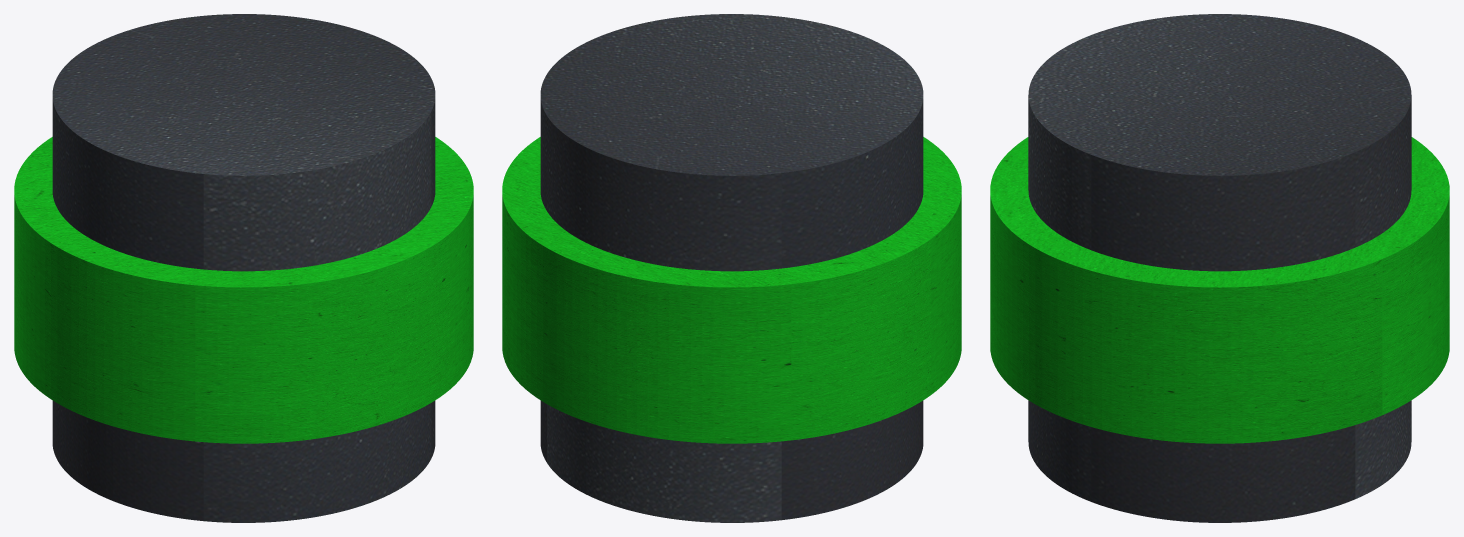
Rendered from CylBump.obj.
The picture shows the model from 3 angles, left to right: view 1: azimuth 30°, elevation 25°; view 2: azimuth 150°, elevation 25°; view 3: azimuth 270°, elevation 25°; orthographic projection.
Visible parts, largest first — view 1: CylinderBumper.005_Cylinder.003, GreenBumper.005_Cylinder.006; view 2: CylinderBumper.005_Cylinder.003, GreenBumper.005_Cylinder.006; view 3: CylinderBumper.005_Cylinder.003, GreenBumper.005_Cylinder.006.
Boxes of the visible parts, box(x1,y1,x2,y2) form: CylinderBumper.005_Cylinder.003: box(52, 14, 435, 522); GreenBumper.005_Cylinder.006: box(14, 137, 473, 443); CylinderBumper.005_Cylinder.003: box(540, 14, 923, 522); GreenBumper.005_Cylinder.006: box(502, 137, 961, 443); CylinderBumper.005_Cylinder.003: box(1028, 14, 1411, 522); GreenBumper.005_Cylinder.006: box(990, 137, 1449, 443).
Bounding box in the file's own units: 0.6 × 0.5 × 0.6.
2 materials, 2 textured.
